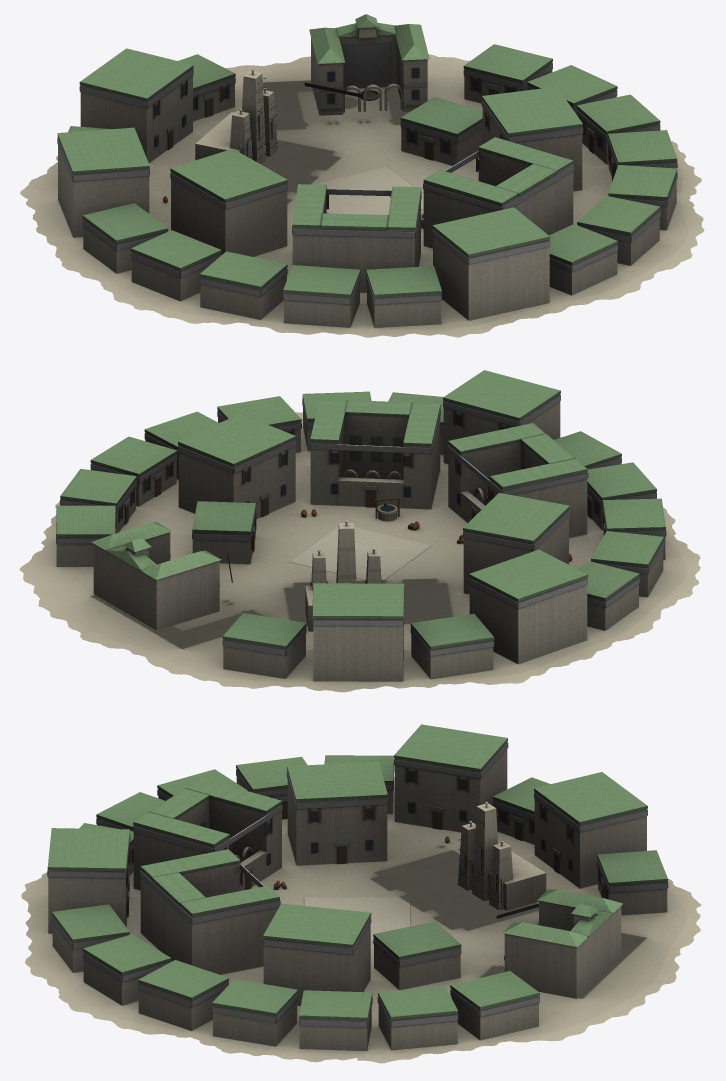
The model's file is gunpowder-town-big-b-maghreb.glb.
3 renders of one model, top to bottom at view 1: azimuth 30°, elevation 25°; view 2: azimuth 150°, elevation 25°; view 3: azimuth 270°, elevation 25°, orthographic.
Parts seen in each view (by area): view 1: LOD0; view 2: LOD0; view 3: LOD0.
Part boxes in pixels (x1,y1,x2,y2): LOD0: [20, 14, 704, 337]; LOD0: [19, 370, 700, 692]; LOD0: [21, 724, 701, 1063].
Size of what is drawn, in the model's own units: 7.89 by 1.2 by 7.94.
Materials: 3 (3 with a texture image).
